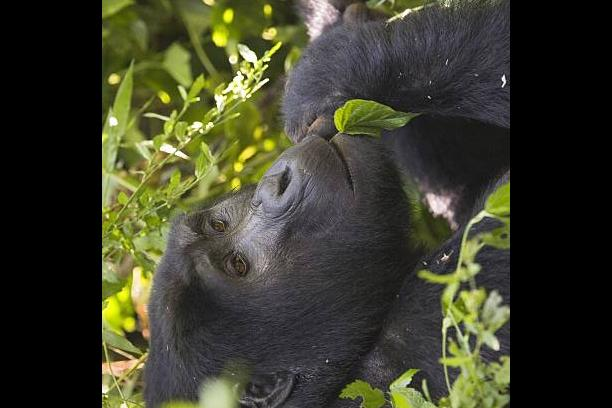goriile_montagne: (143, 0, 510, 408)
